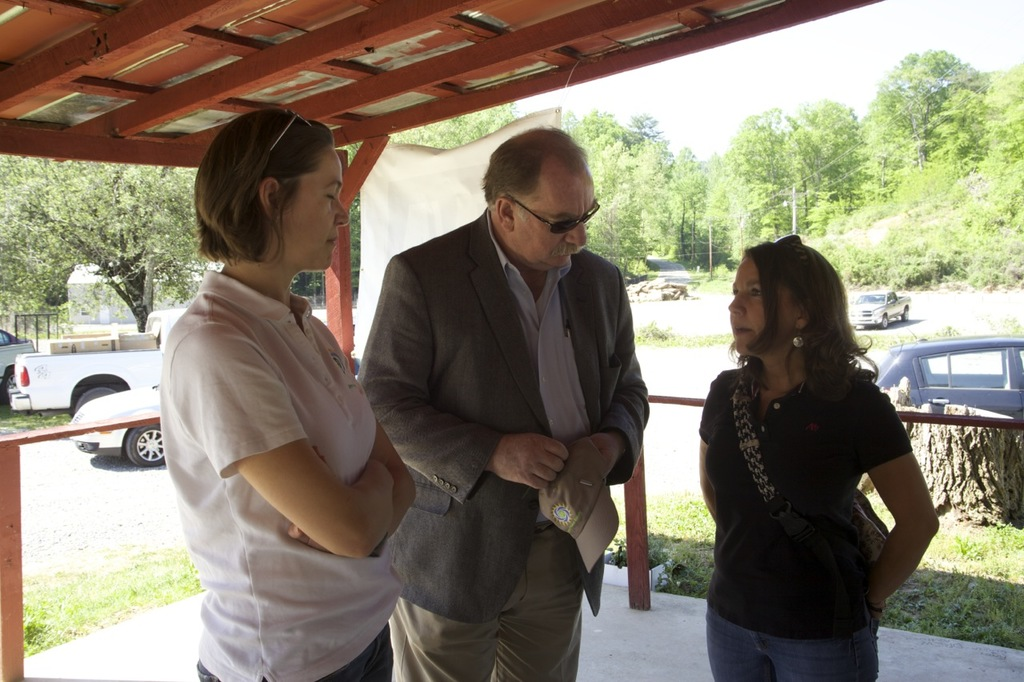Car: (895, 344, 1020, 437), (67, 382, 163, 462), (848, 292, 915, 330), (1, 326, 32, 402)
